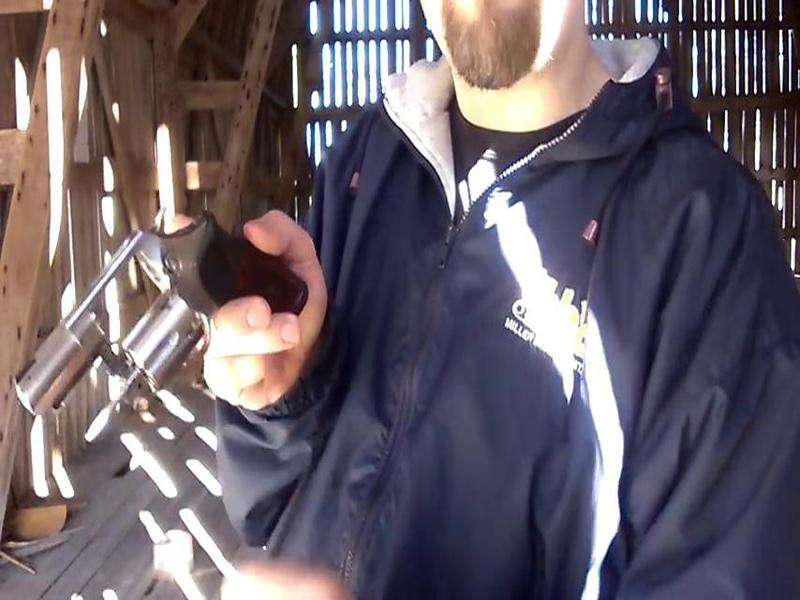Revolver: (3, 204, 286, 434)
